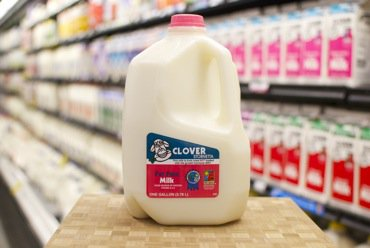milk: (127, 14, 257, 227)
